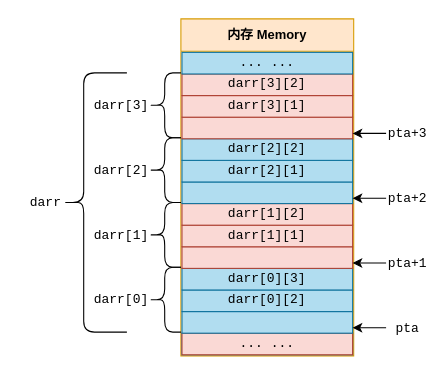
This 447x375 diagram has some shape labels left out. The centre of each missing label's shape, as x and y in pixels:
"darr[0][0]" belongs at [267,321].
"darr[1][0]" belongs at [267,257].
"darr[2][0]" belongs at [267,192].
"darr[3][0]" belongs at [267,127].
